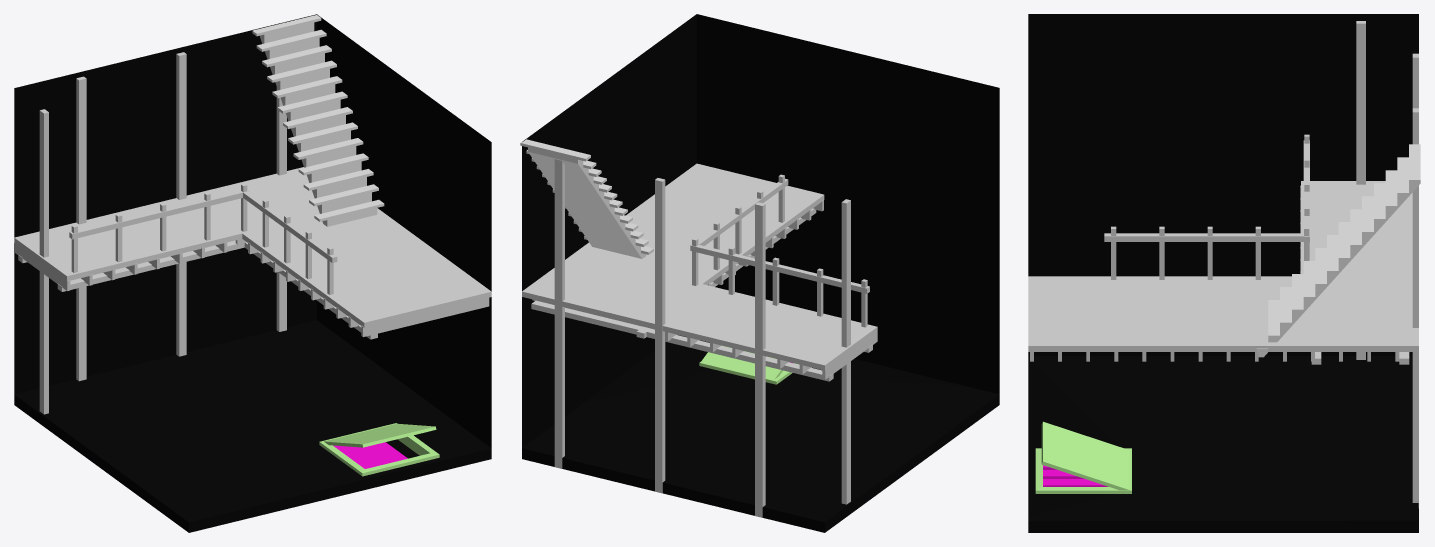
The model's file is base_mur_etage_escalier_trappe.FBX.
3 views of the same model, side by side, from view 1: azimuth 30°, elevation 25°; view 2: azimuth 150°, elevation 25°; view 3: azimuth 270°, elevation 25° (orthographic). The views are drawn at different scales.
Parts seen in each view (by area): view 1: Pièce cave, Poutres, StraightStair001, rambarde, Trappe; view 2: Pièce cave, Poutres, StraightStair001, rambarde, Trappe; view 3: Pièce cave, StraightStair001, Trappe, Poutres, rambarde.
Boxes of the visible parts, x1,y1,x2,y2 form: Pièce cave: [14, 14, 491, 532]; Poutres: [15, 52, 489, 414]; StraightStair001: [251, 14, 384, 226]; rambarde: [69, 183, 337, 294]; Trappe: [319, 423, 439, 476]; Pièce cave: [522, 14, 999, 532]; Poutres: [531, 159, 877, 517]; StraightStair001: [520, 139, 653, 258]; rambarde: [690, 174, 869, 327]; Trappe: [699, 345, 799, 384]; Pièce cave: [1028, 14, 1418, 532]; StraightStair001: [1256, 144, 1420, 357]; Trappe: [1035, 421, 1131, 493]; Poutres: [1030, 21, 1418, 508]; rambarde: [1104, 134, 1309, 279].
Size of the model in its own units: 602 by 600 by 603.
